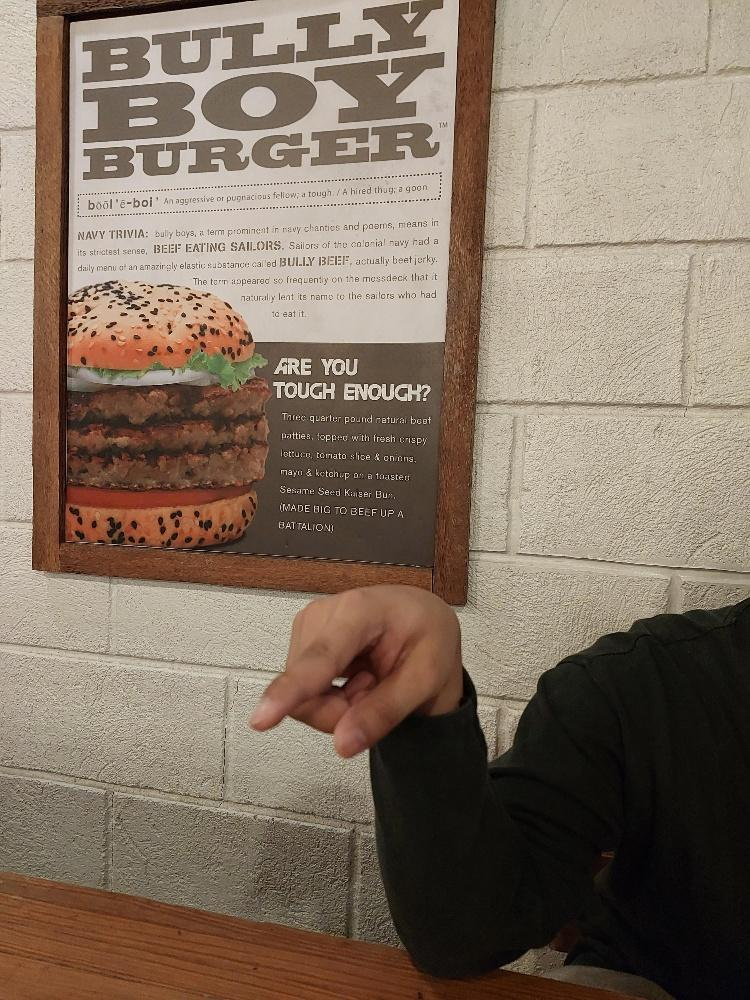z: (245, 580, 446, 757)
